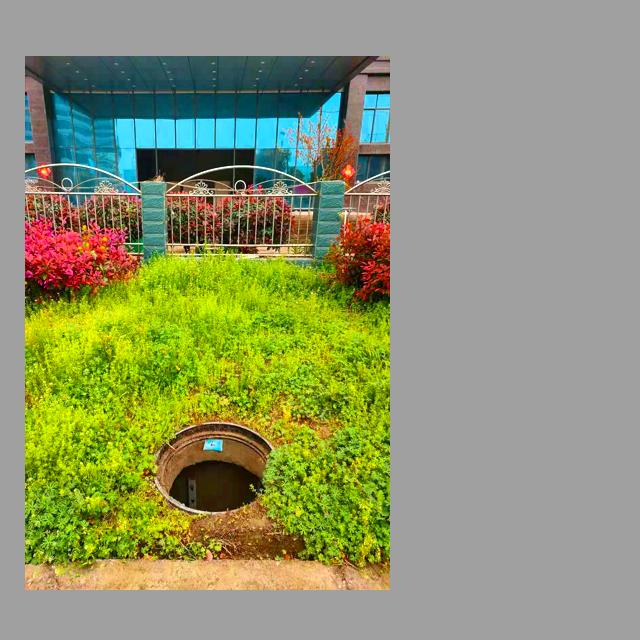lose: (153, 419, 281, 515)
